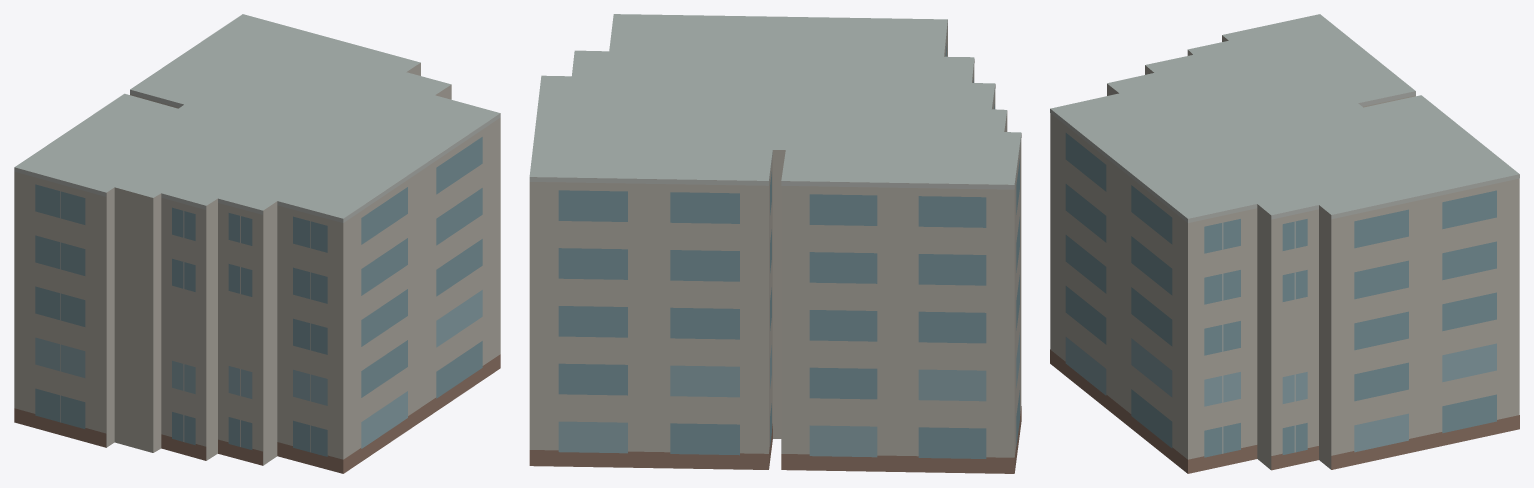
File: survey-upis-32512717.glb
3 views of the same model, side by side, from view 1: azimuth 30°, elevation 25°; view 2: azimuth 150°, elevation 25°; view 3: azimuth 270°, elevation 25° (orthographic). The views are drawn at different scales.
Parts seen in each view (by area): view 1: survey-upis-32512717.tmp; view 2: survey-upis-32512717.tmp; view 3: survey-upis-32512717.tmp.
Boxes of the visible parts, x1,y1,x2,y2 form: survey-upis-32512717.tmp: (14,14,500,473); survey-upis-32512717.tmp: (529,14,1021,473); survey-upis-32512717.tmp: (1050,14,1519,473).
Bounding box in the file's own units: 24.91 × 14.45 × 24.13.
